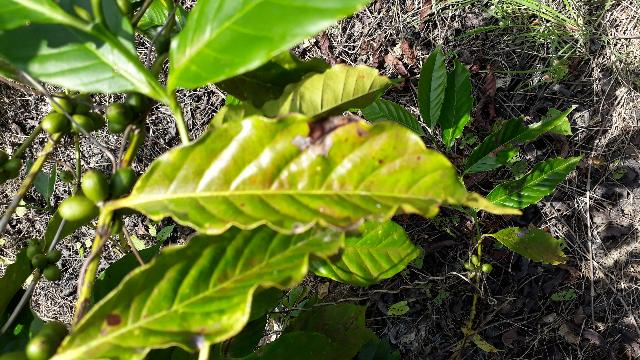red_spider_mite: (128, 114, 533, 237)
